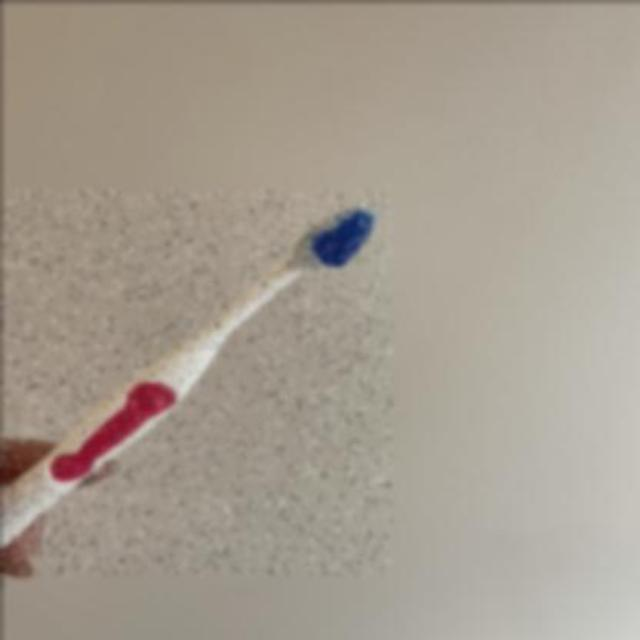toothbrush: (0, 190, 390, 574)
